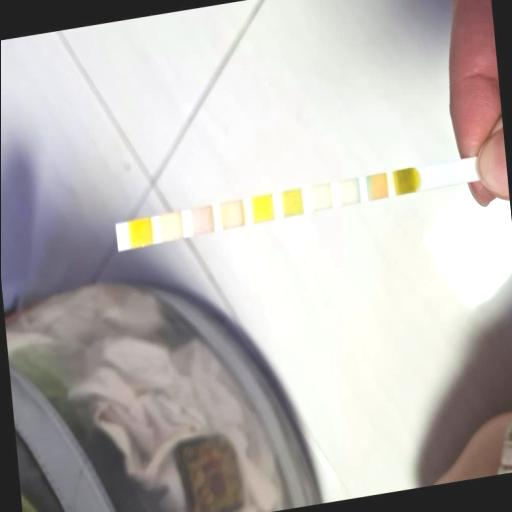Bilirubin: (369, 175, 385, 199)
Blood: (283, 190, 300, 214)
Glucose: (396, 170, 412, 192)
Ketone: (340, 182, 356, 204)
Leukocytes: (131, 221, 148, 245)
Nitrite: (162, 214, 178, 238)
Protein: (223, 204, 239, 226)
SpGravity: (312, 188, 328, 210)
Urobilinogen: (192, 209, 208, 233)
pH: (254, 197, 269, 221)
strip: (115, 157, 476, 253)
